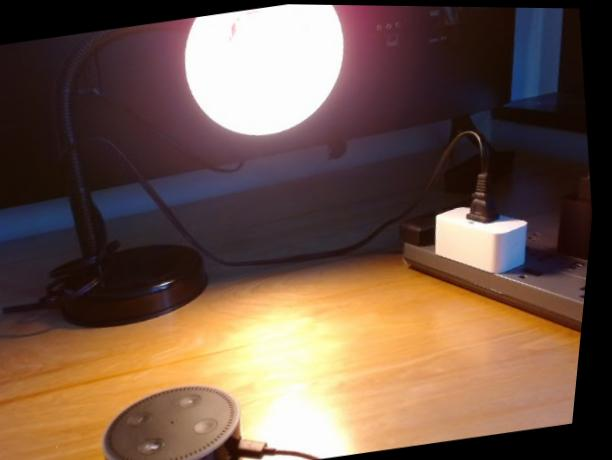TubeLight: (224, 5, 318, 92)
